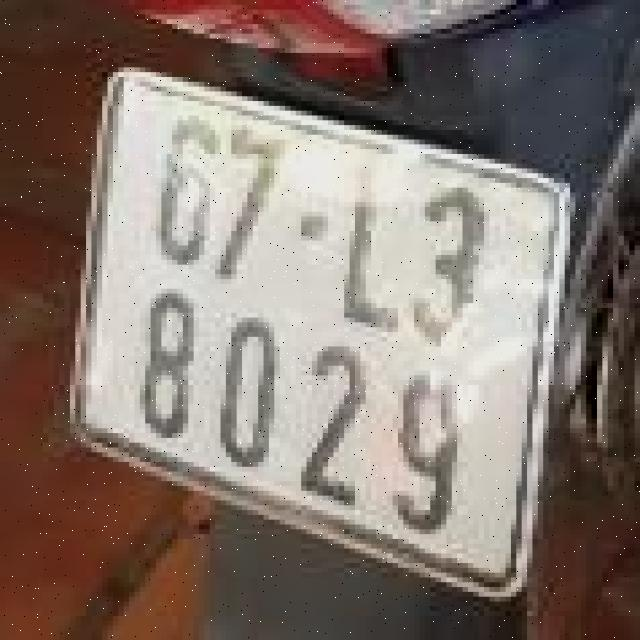0: (215, 313, 280, 476)
2: (290, 330, 376, 512)
3: (412, 176, 492, 349)
6: (142, 103, 212, 272)
7: (223, 128, 293, 286)
8: (134, 284, 204, 447)
9: (387, 364, 463, 542)
L: (323, 146, 403, 330)
